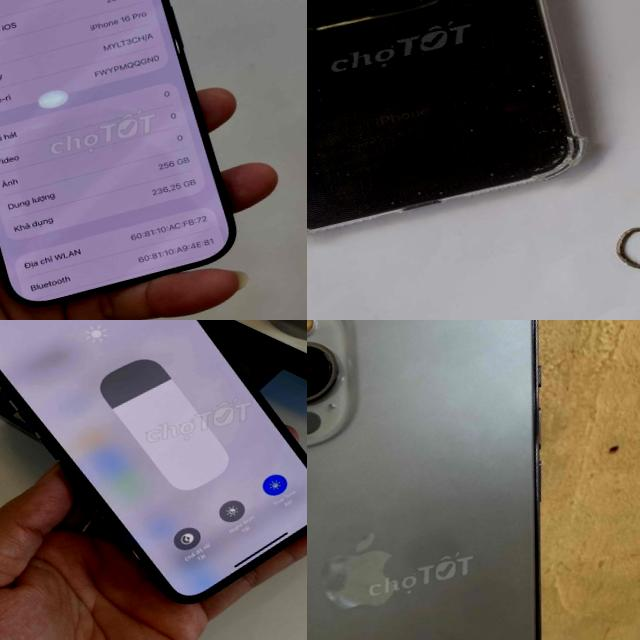scratch: (426, 0, 581, 176), (374, 165, 498, 212)
